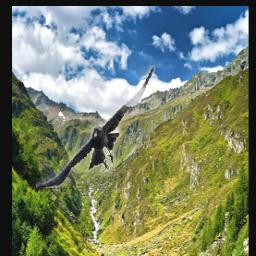Crow: (35, 66, 154, 189)
